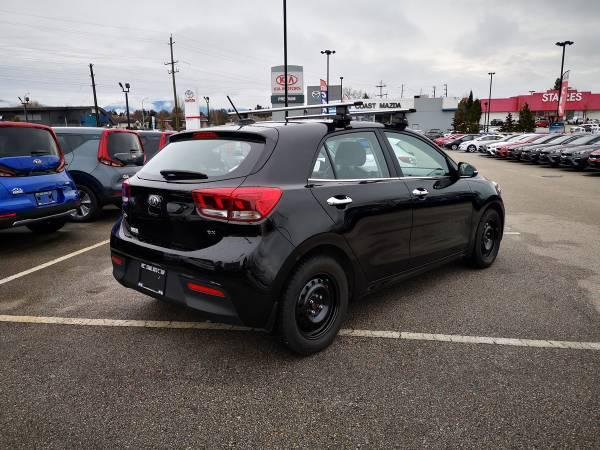Front_Fender: (466, 178, 500, 233)
Front_Right_Door: (405, 180, 474, 276)
Front_Right_Window: (379, 131, 465, 181)
Rear_Bumper: (111, 221, 301, 325)
Rear_Fender: (267, 183, 336, 255)
Rear_Right_Door: (312, 179, 415, 291)
Rear_Right_Window: (308, 133, 395, 183)
Rear_Windshield: (132, 133, 264, 186)
Right_Taillight: (194, 190, 283, 226)
Roof: (169, 120, 463, 188)
Tailgate: (121, 179, 246, 251)
Wheel: (284, 250, 359, 348), (474, 207, 505, 267)
